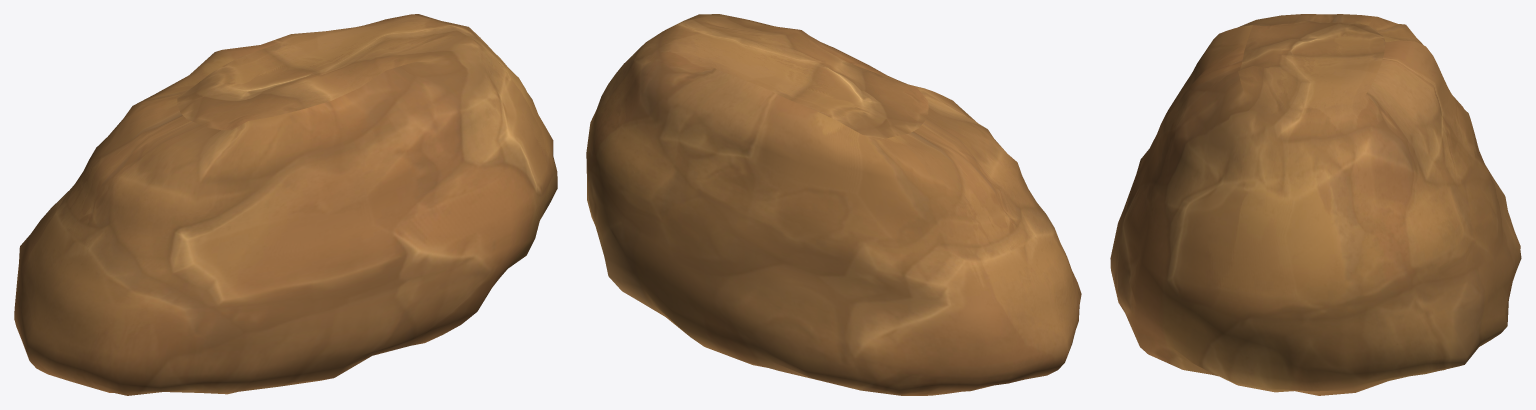
Rendered from Low_islands3.fbx.
The picture shows the model from 3 angles, left to right: view 1: azimuth 30°, elevation 25°; view 2: azimuth 150°, elevation 25°; view 3: azimuth 270°, elevation 25°; orthographic projection. The views are drawn at different scales.
Parts seen in each view (by area): view 1: Cube.002; view 2: Cube.002; view 3: Cube.002.
Boxes of the visible parts, bbox=[...] form: Cube.002: bbox=[14, 14, 557, 395]; Cube.002: bbox=[586, 14, 1081, 395]; Cube.002: bbox=[1110, 14, 1521, 395].
Bounding box in the file's own units: 1619 × 880 × 1023.
Materials: 1 (1 with a texture image).
